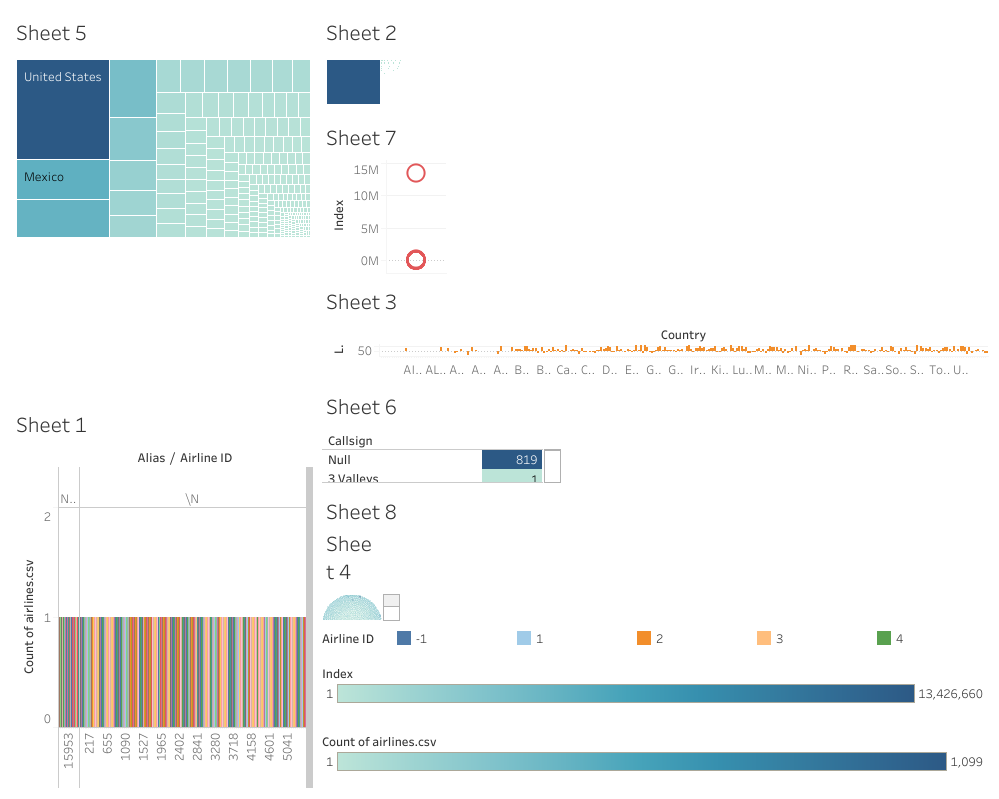

Layout of this report page (visuals, bound fields, positions):
{"tool":"tableau","page":{"name":"Dashboard 2","canvas":[1000,800],"ordinal":0},"visuals":[{"type":"worksheet","title":"Sheet 5","mark":"Automatic","box":[8,8,310,392]},{"type":"worksheet","title":"Sheet 2","mark":"Automatic","box":[318,8,674,103]},{"type":"worksheet","title":"Sheet 7","mark":"Shape","rows":["index"],"box":[318,111,674,164]},{"type":"worksheet","title":"Sheet 3","mark":"Automatic","cols":["Country"],"box":[318,275,674,107.7]},{"type":"worksheet","title":"Sheet 6","mark":"Square","rows":["Callsign"],"box":[318,382.7,674,107.7]},{"type":"worksheet","title":"Sheet 1","mark":"Automatic","rows":["airlines.csv_9A91A8066651412598CE652572C74CEC"],"cols":["Alias","Airline ID"],"box":[8,400,310,392]},{"type":"worksheet","title":"Sheet 8","mark":"Automatic","cols":["airlines.csv_9A91A8066651412598CE652572C74CEC"],"box":[318,490.3,674,32]},{"type":"worksheet","title":"Sheet 4","mark":"Circle","box":[318,522.3,674,107.7]},{"type":"legend","title":"Sheet 1","param":"[federated.0vteizv0kiph9f13mp98i0suupcn].[none:Airline ID:ok]","box":[318,630,674,32]},{"type":"legend","title":"Sheet 2","param":"[federated.0vteizv0kiph9f13mp98i0suupcn].[sum:index:qk]","box":[318,662,674,65]},{"type":"legend","title":"Sheet 5","param":"[federated.0vteizv0kiph9f13mp98i0suupcn].[__tableau_internal_object_id__].[cnt:a","box":[318,727,674,65]}]}

Visuals, with their boxes in screenshot pixels (x1, y1, x2, y2), scaled from the page's 1000x800 canvas onto the 999x799 screenshot:
"Sheet 5" worksheet: {"x1": 8, "y1": 8, "x2": 318, "y2": 400}
"Sheet 2" worksheet: {"x1": 318, "y1": 8, "x2": 991, "y2": 111}
"Sheet 7" worksheet (Shape marks): {"x1": 318, "y1": 111, "x2": 991, "y2": 275}
"Sheet 3" worksheet: {"x1": 318, "y1": 275, "x2": 991, "y2": 382}
"Sheet 6" worksheet (Square marks): {"x1": 318, "y1": 382, "x2": 991, "y2": 490}
"Sheet 1" worksheet: {"x1": 8, "y1": 400, "x2": 318, "y2": 791}
"Sheet 8" worksheet: {"x1": 318, "y1": 490, "x2": 991, "y2": 522}
"Sheet 4" worksheet (Circle marks): {"x1": 318, "y1": 522, "x2": 991, "y2": 629}
"Sheet 1" legend: {"x1": 318, "y1": 629, "x2": 991, "y2": 661}
"Sheet 2" legend: {"x1": 318, "y1": 661, "x2": 991, "y2": 726}
"Sheet 5" legend: {"x1": 318, "y1": 726, "x2": 991, "y2": 791}
